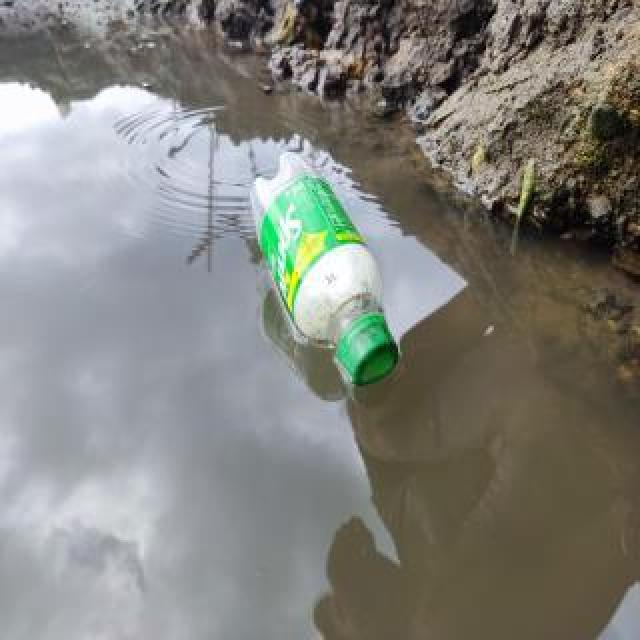bottle: (247, 148, 405, 394)
